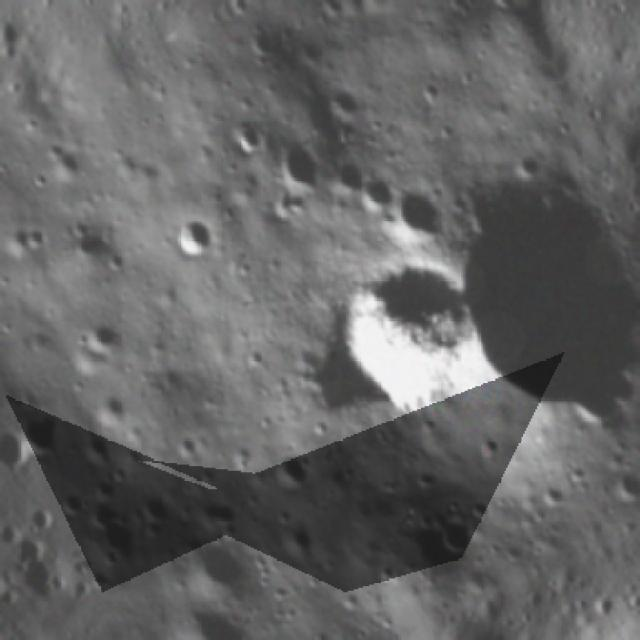crater: (417, 136, 640, 450), (292, 223, 500, 428), (176, 523, 262, 612), (257, 129, 340, 217), (377, 173, 460, 255), (158, 203, 232, 279), (258, 438, 324, 502), (71, 306, 134, 368), (14, 404, 72, 465), (346, 166, 405, 225), (425, 511, 481, 567), (242, 22, 286, 68), (528, 474, 572, 518), (604, 463, 640, 510), (55, 489, 91, 525)
